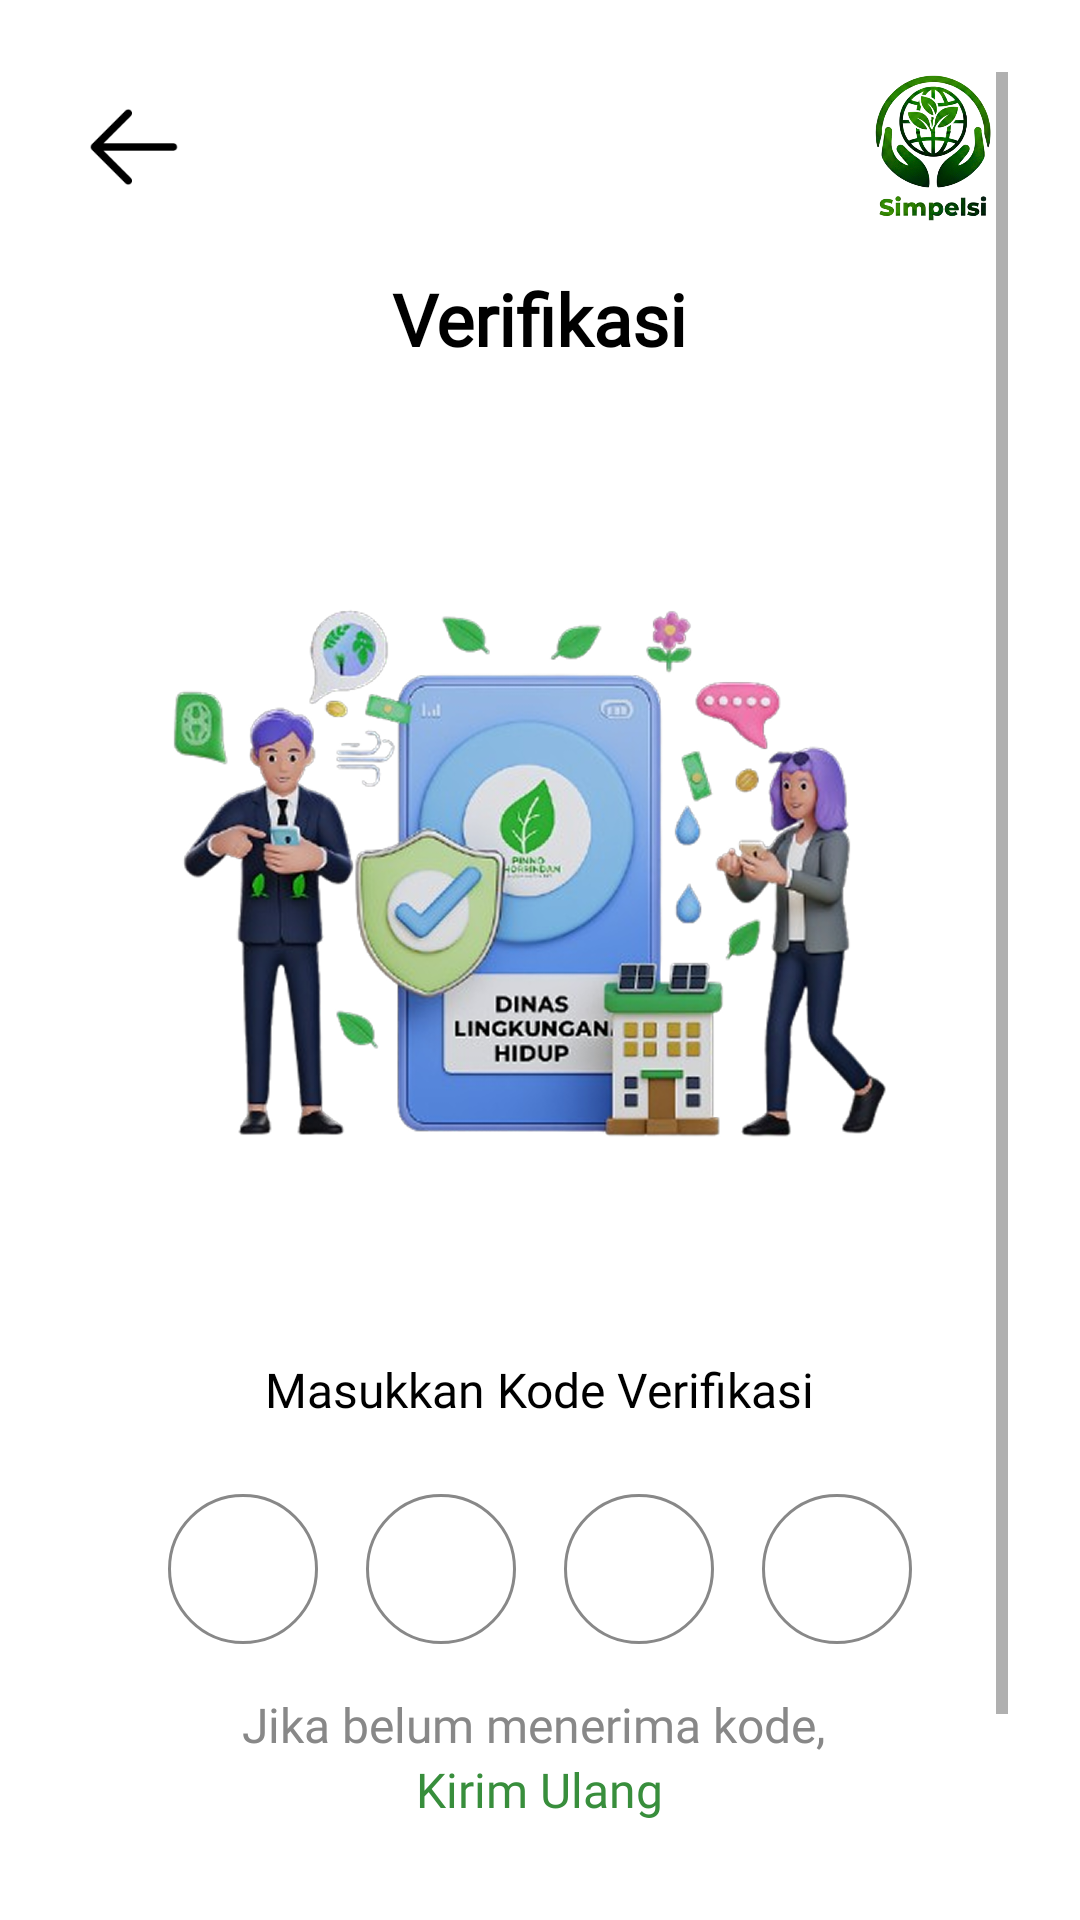

Icon bounding boxes for this 1080px x 1920px phone screenshot, format (x1, y1, x2, y2):
Kembali: (90, 109, 178, 185)
